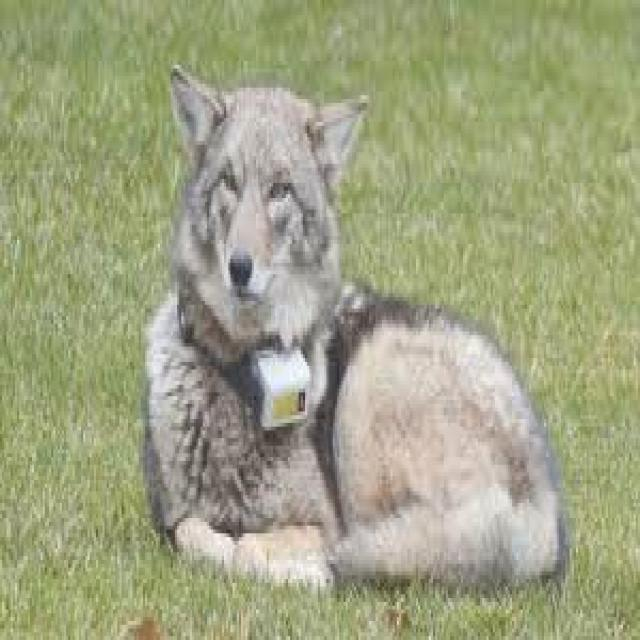coyote: (145, 65, 565, 583)
